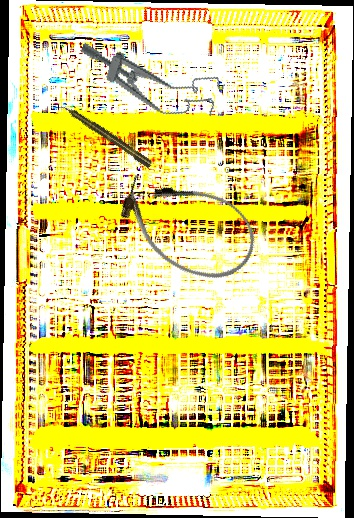Cannula: (106, 157, 269, 296)
Handpiece: (58, 100, 154, 170)
Speculum: (70, 32, 227, 130)
